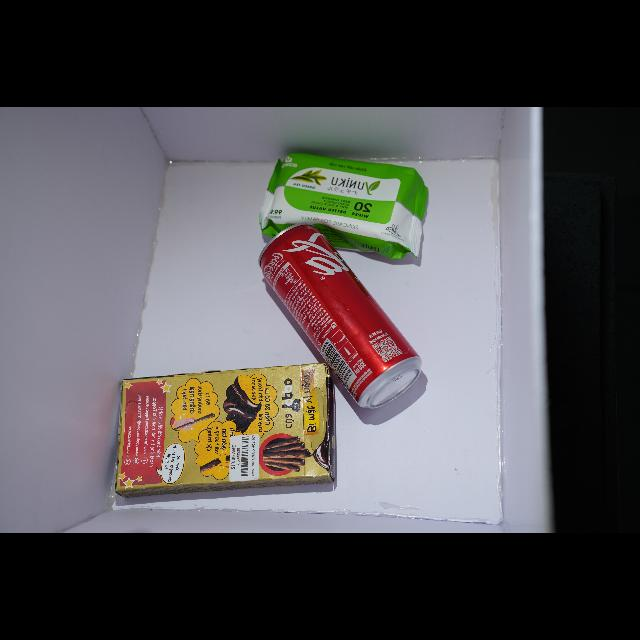banh_toppo_socola: (115, 364, 330, 497)
coca_cola: (260, 225, 422, 408)
khan_giay: (260, 154, 427, 258)
